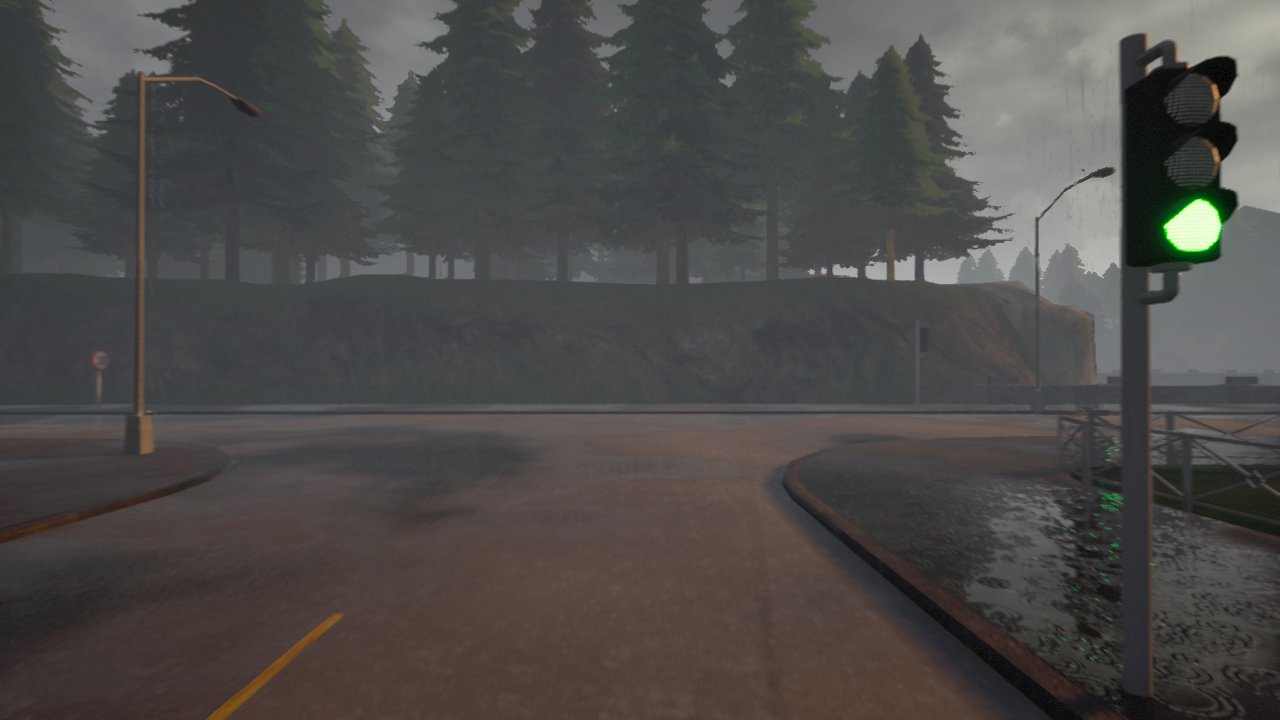green: (1123, 62, 1237, 272)
